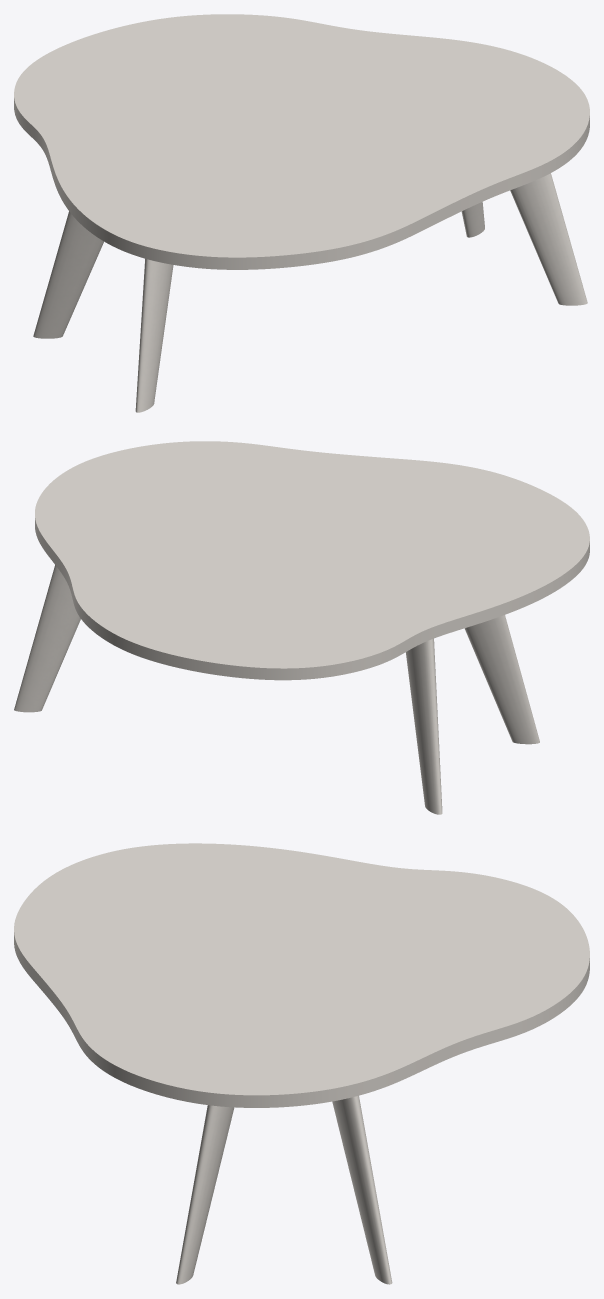
The model's file is pearlwhite_topone_standard_ferdinantwalnut.glb.
The picture shows the model from 3 angles, top to bottom: view 1: azimuth 30°, elevation 25°; view 2: azimuth 150°, elevation 25°; view 3: azimuth 270°, elevation 25°; orthographic projection. The views are drawn at different scales.
Parts seen in each view (by area): view 1: standard_topone, ferdinandwalnut; view 2: standard_topone, ferdinandwalnut; view 3: standard_topone, ferdinandwalnut.
Boxes of the visible parts, x1,y1,x2,y2 form: standard_topone: (14, 14, 589, 269); ferdinandwalnut: (33, 173, 587, 412); standard_topone: (35, 441, 589, 680); ferdinandwalnut: (14, 565, 539, 814); standard_topone: (14, 843, 589, 1107); ferdinandwalnut: (176, 1095, 392, 1284).
Bounding box in the file's own units: 6.83 × 2.51 × 6.6.
1 material, 1 textured.
